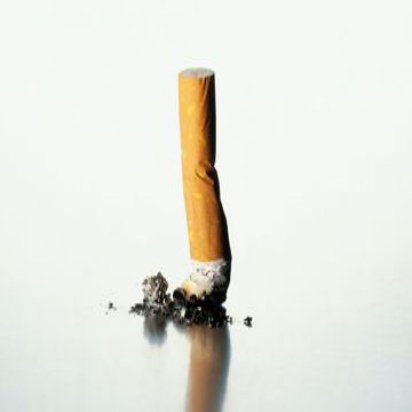cigarette: (162, 63, 238, 325)
